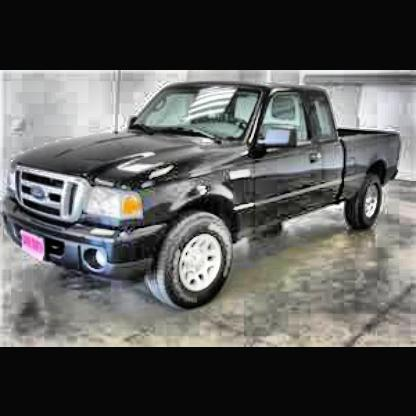Ford Ranger SuperCab 2011: (6, 81, 402, 313)
